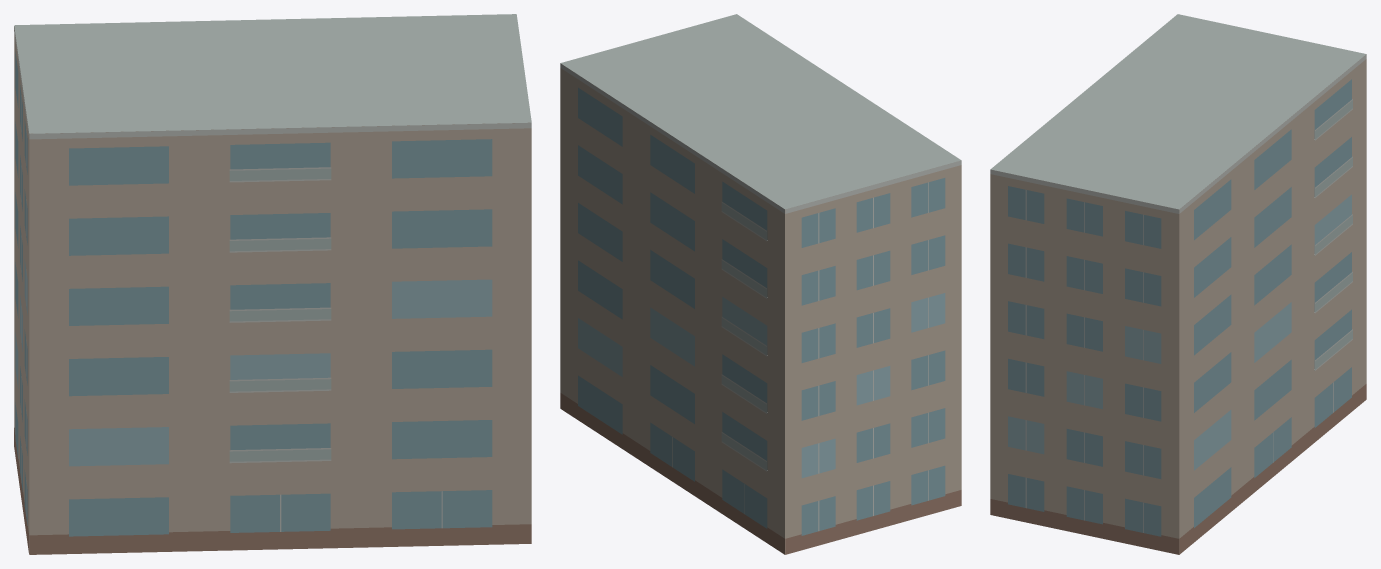
The model's file is survey-upis-32685258.glb.
3 renders of one model, left to right at view 1: azimuth 30°, elevation 25°; view 2: azimuth 150°, elevation 25°; view 3: azimuth 270°, elevation 25°, orthographic. The views are drawn at different scales.
Parts seen in each view (by area): view 1: survey-upis-32685258.tmp; view 2: survey-upis-32685258.tmp; view 3: survey-upis-32685258.tmp.
Boxes of the visible parts, bbox=[...] form: survey-upis-32685258.tmp: bbox=[14, 14, 531, 554]; survey-upis-32685258.tmp: bbox=[560, 14, 961, 554]; survey-upis-32685258.tmp: bbox=[990, 14, 1366, 554].
Bounding box in the file's own units: 22.22 × 18.3 × 18.08.
